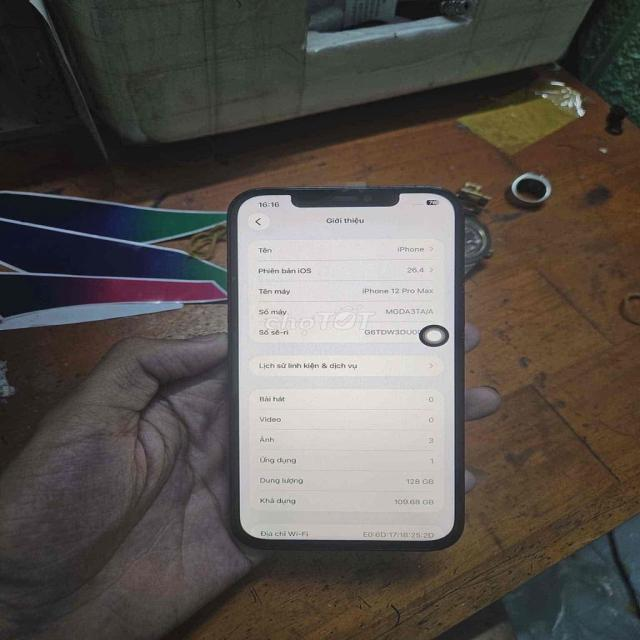gen_12_13: (222, 182, 477, 552)
